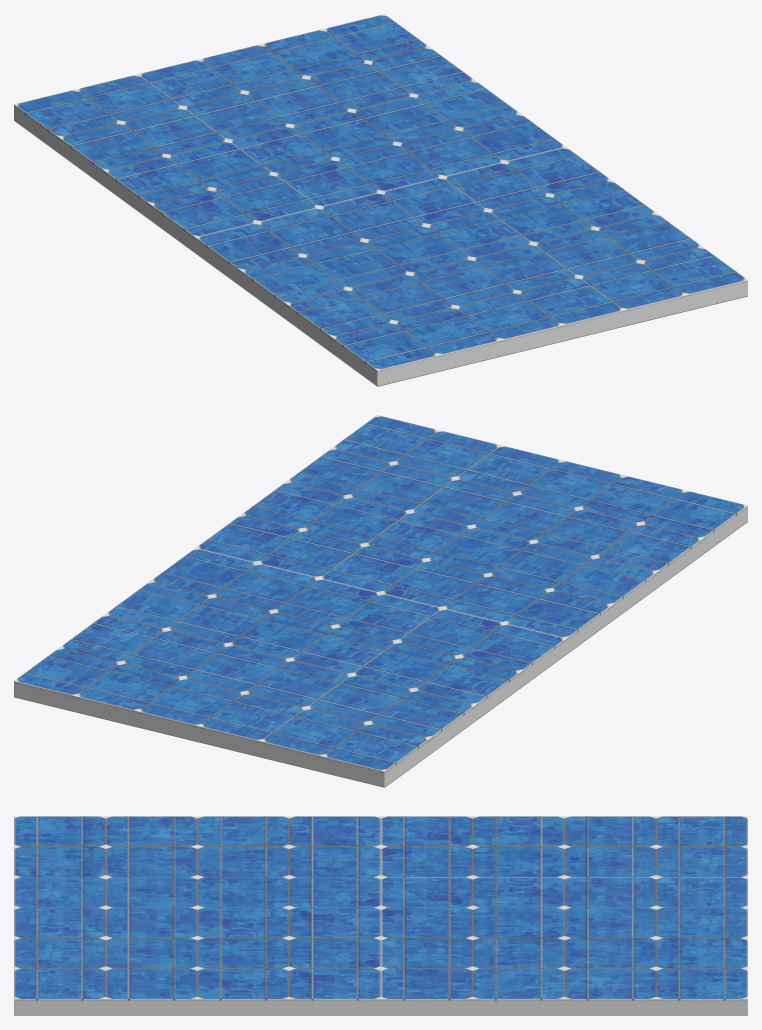
File: Solarmodul__LOW_Solarmodul_Dachmontage.150c63c2.glb
3 views of the same model, one above another, from view 1: azimuth 30°, elevation 25°; view 2: azimuth 150°, elevation 25°; view 3: azimuth 270°, elevation 25° (orthographic).
Visible parts, largest first — view 1: LOW_Solarmodul_Dachmontage; view 2: LOW_Solarmodul_Dachmontage; view 3: LOW_Solarmodul_Dachmontage.
Part boxes in pixels (x1,y1,x2,y2): LOW_Solarmodul_Dachmontage: (14,14,747,386); LOW_Solarmodul_Dachmontage: (14,415,747,787); LOW_Solarmodul_Dachmontage: (14,816,747,1015).
Bounding box in the file's own units: 1.05 × 0.0446 × 1.78.
Materials: 1 (1 with a texture image).
